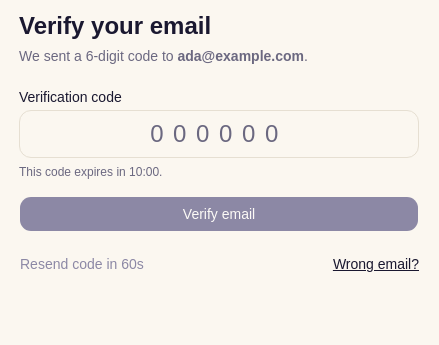
Test case: VerifyEmailPage › shows an error for a wrong or expired code
Type "123456" into the field labelled "Verification code" at coordinates (219, 134), box [19, 110, 419, 158]
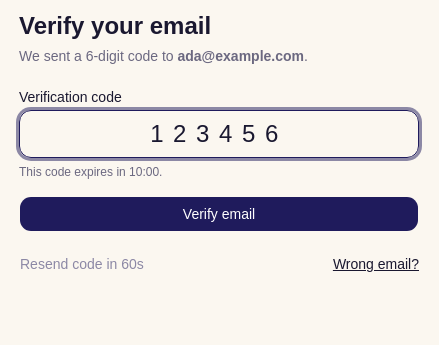
Click the button "Verify email" at coordinates (219, 214), box [19, 196, 419, 232]
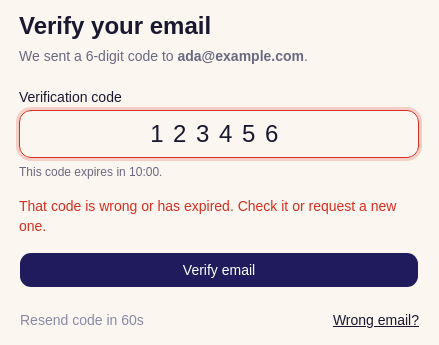
Now the text "That code is wrong or has expired. Check it or request a new one." is shown, box [19, 196, 419, 236]
